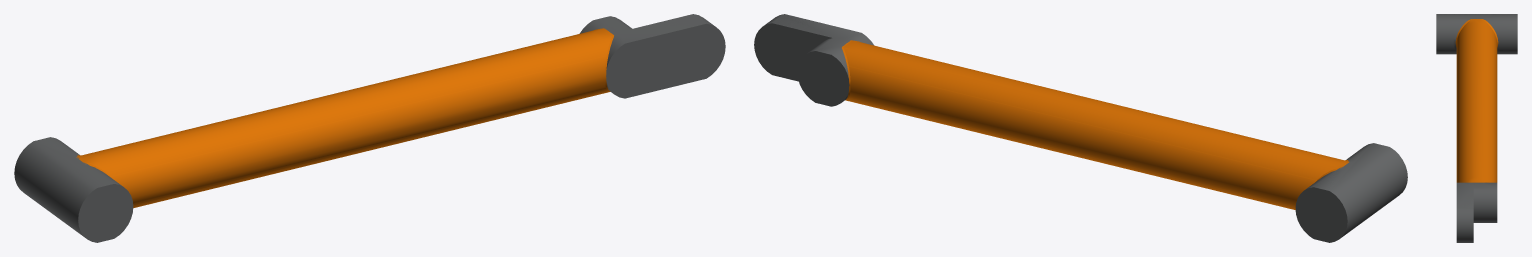
3 views of the same model, side by side, from view 1: azimuth 30°, elevation 25°; view 2: azimuth 150°, elevation 25°; view 3: azimuth 270°, elevation 25° (orthographic). The views are drawn at different scales.
Visible parts, largest first — view 1: e3_LOD0, e3_col; view 2: e3_LOD0, e3_col; view 3: e3_LOD0, e3_col.
Part boxes in pixels (box(x1,y1,x2,y2)): e3_LOD0: box(14, 14, 725, 242); e3_col: box(41, 14, 725, 242); e3_LOD0: box(754, 14, 1407, 242); e3_col: box(754, 14, 1354, 242); e3_LOD0: box(1436, 14, 1517, 242); e3_col: box(1437, 14, 1516, 207).
Size of what is drawn, in the model's own units: 144 by 11.67 by 24.
